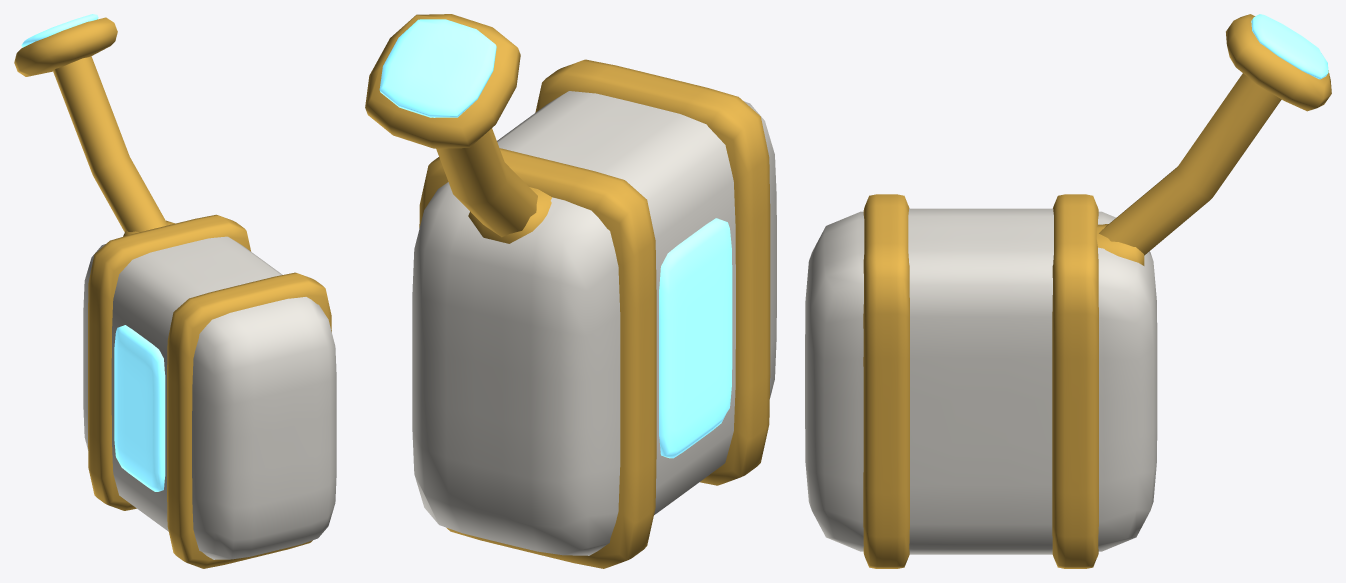
The model's file is gardener-kit.fit.glb.
The picture shows the model from 3 angles, left to right: view 1: azimuth 30°, elevation 25°; view 2: azimuth 150°, elevation 25°; view 3: azimuth 270°, elevation 25°; orthographic projection. The views are drawn at different scales.
Parts seen in each view (by area): view 1: gardener-kit; view 2: gardener-kit; view 3: gardener-kit.
Boxes of the visible parts, x1,y1,x2,y2 form: gardener-kit: (14, 14, 336, 568); gardener-kit: (365, 14, 776, 568); gardener-kit: (805, 14, 1331, 568).
Size of the model in its own units: 0.1573 by 0.42 by 0.3968.
